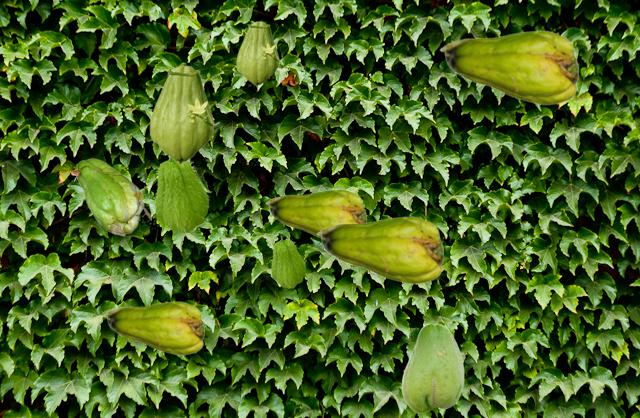sayote: (439, 30, 577, 104), (316, 216, 442, 283), (149, 65, 219, 163), (73, 158, 150, 235), (401, 323, 463, 412), (103, 301, 203, 354), (265, 189, 365, 238), (153, 158, 209, 232), (236, 21, 282, 85), (270, 235, 305, 287)
